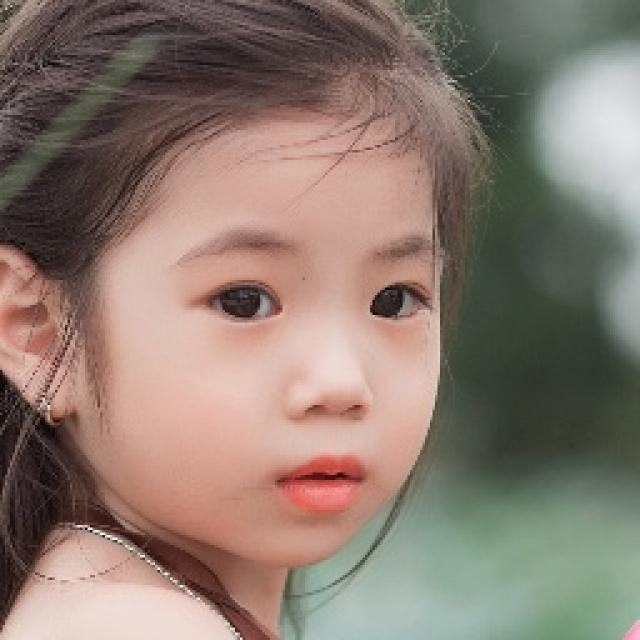earlobe: (33, 359, 79, 422)
eye: (206, 281, 282, 324), (365, 280, 434, 322)
nose: (287, 395, 385, 451)
wholeear: (0, 242, 78, 420)
